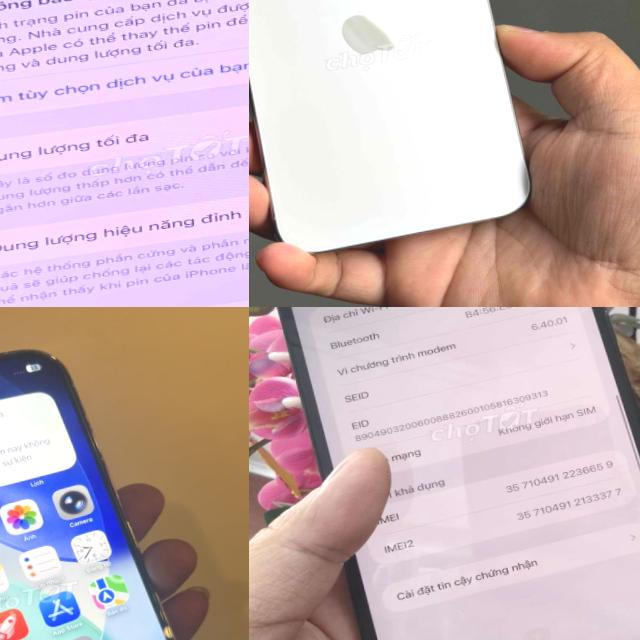gen_12_13: (253, 307, 640, 640), (0, 0, 249, 307), (0, 321, 221, 640)
gen_15: (249, 0, 556, 280)
